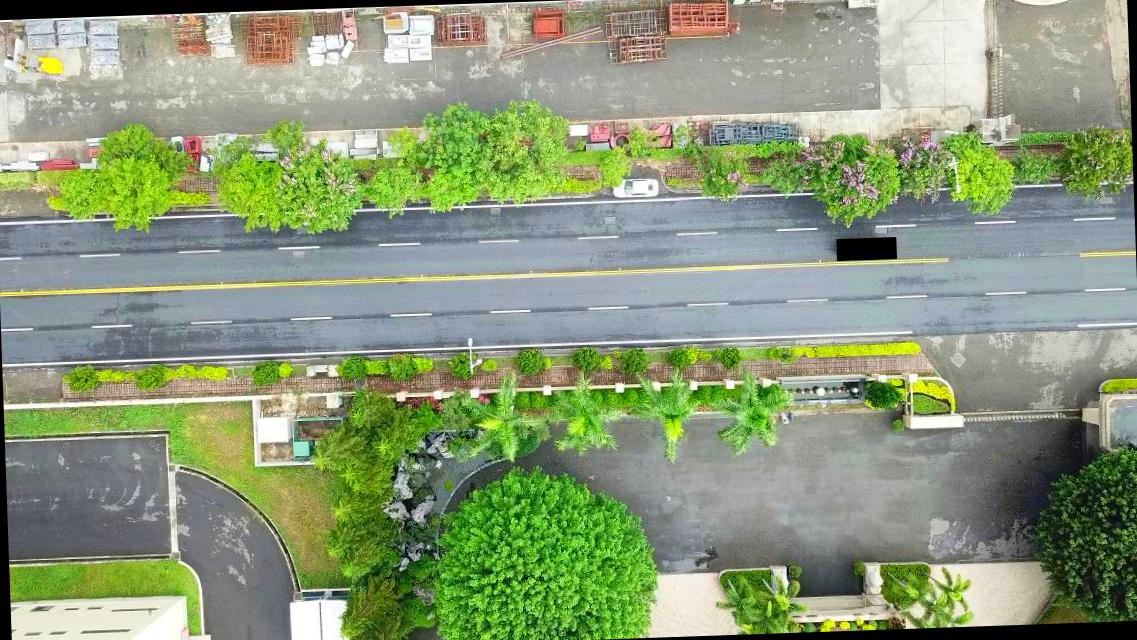vehicle: (609, 174, 659, 200)
